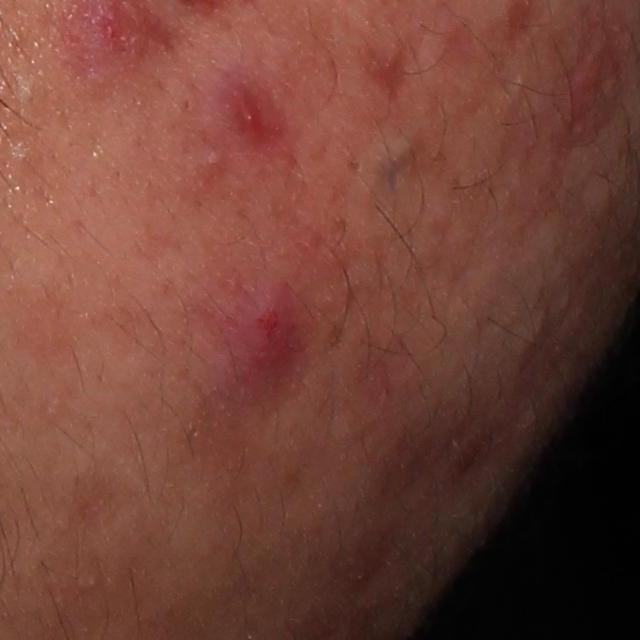papule: (216, 282, 313, 397), (213, 71, 274, 149)
